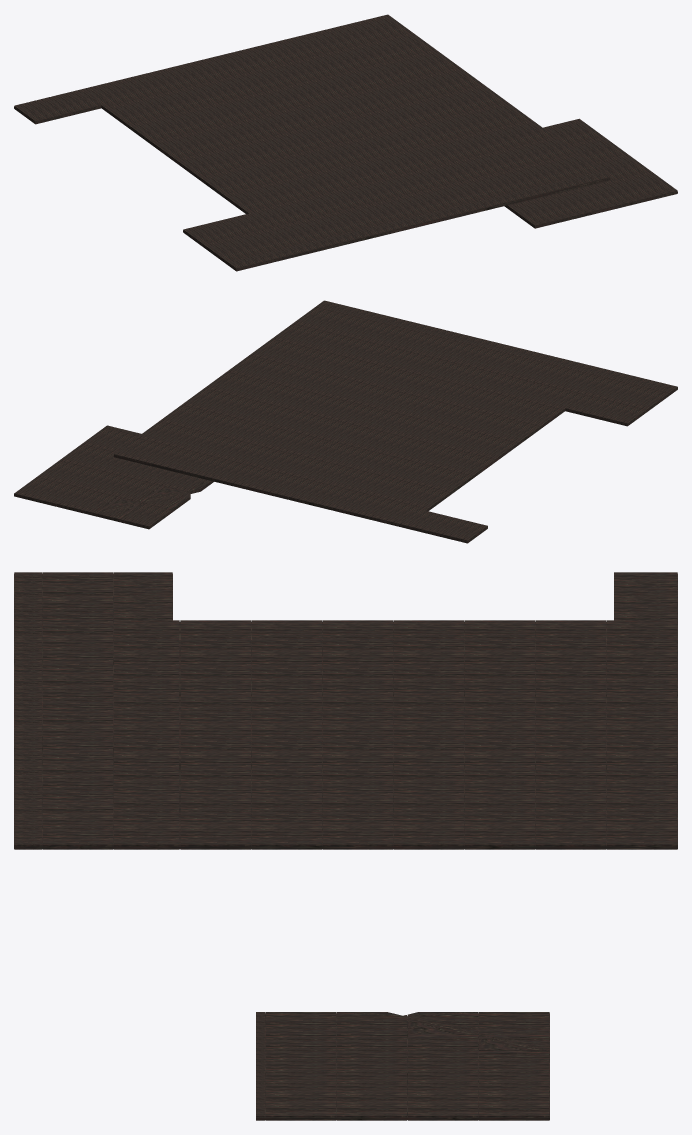
Rendered from tea_floors.glb.
3 renders of one model, top to bottom at view 1: azimuth 30°, elevation 25°; view 2: azimuth 150°, elevation 25°; view 3: azimuth 270°, elevation 25°, orthographic. The views are drawn at different scales.
Parts seen in each view (by area): view 1: tea_floors0; view 2: tea_floors0; view 3: tea_floors0.
Boxes of the visible parts, x1,y1,x2,y2 form: tea_floors0: [14, 14, 677, 271]; tea_floors0: [14, 300, 677, 543]; tea_floors0: [14, 572, 677, 1120].
Bounding box in the file's own units: 19 × 3.9 × 14.
Materials: 1 (1 with a texture image).
